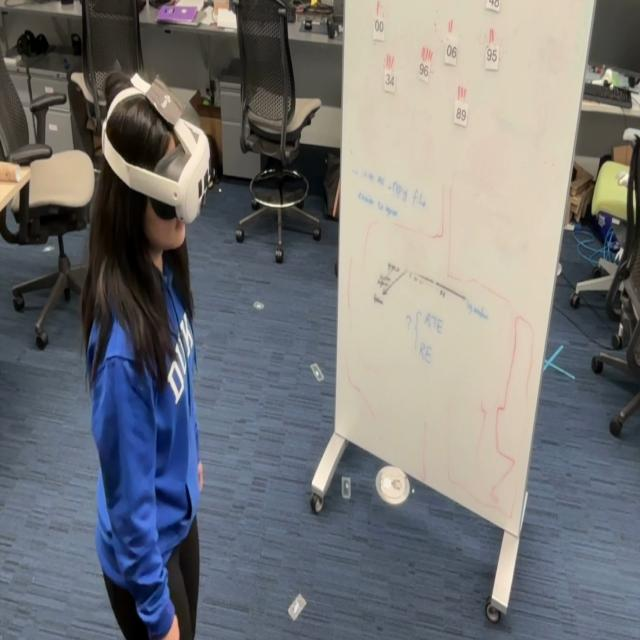Headset: (100, 72, 212, 225)
UnityLogo: (144, 72, 184, 129)
